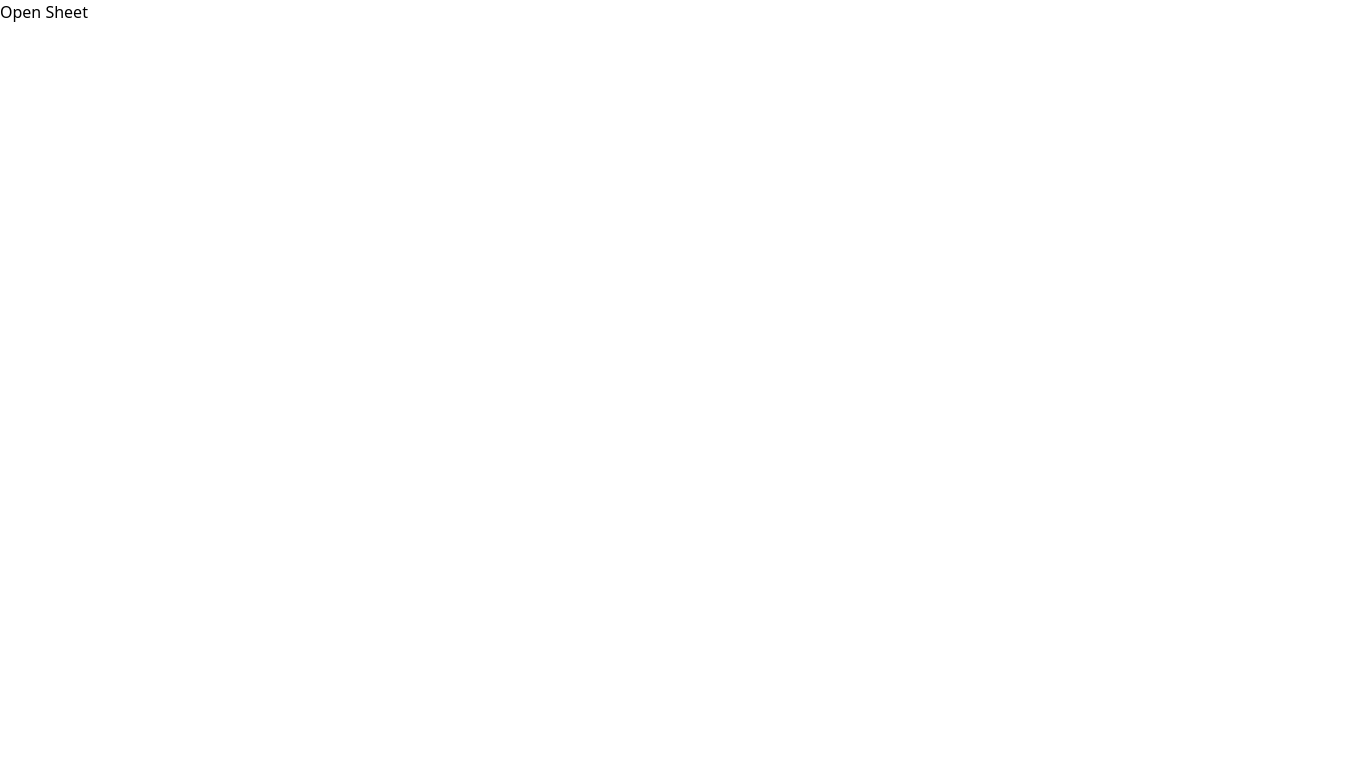
Test: Sheet › should open sheet when trigger is clicked
This screenshot has width=1366, height=768.
Click the button "Open Sheet" at x=44, y=12, box [0,0,88,24]
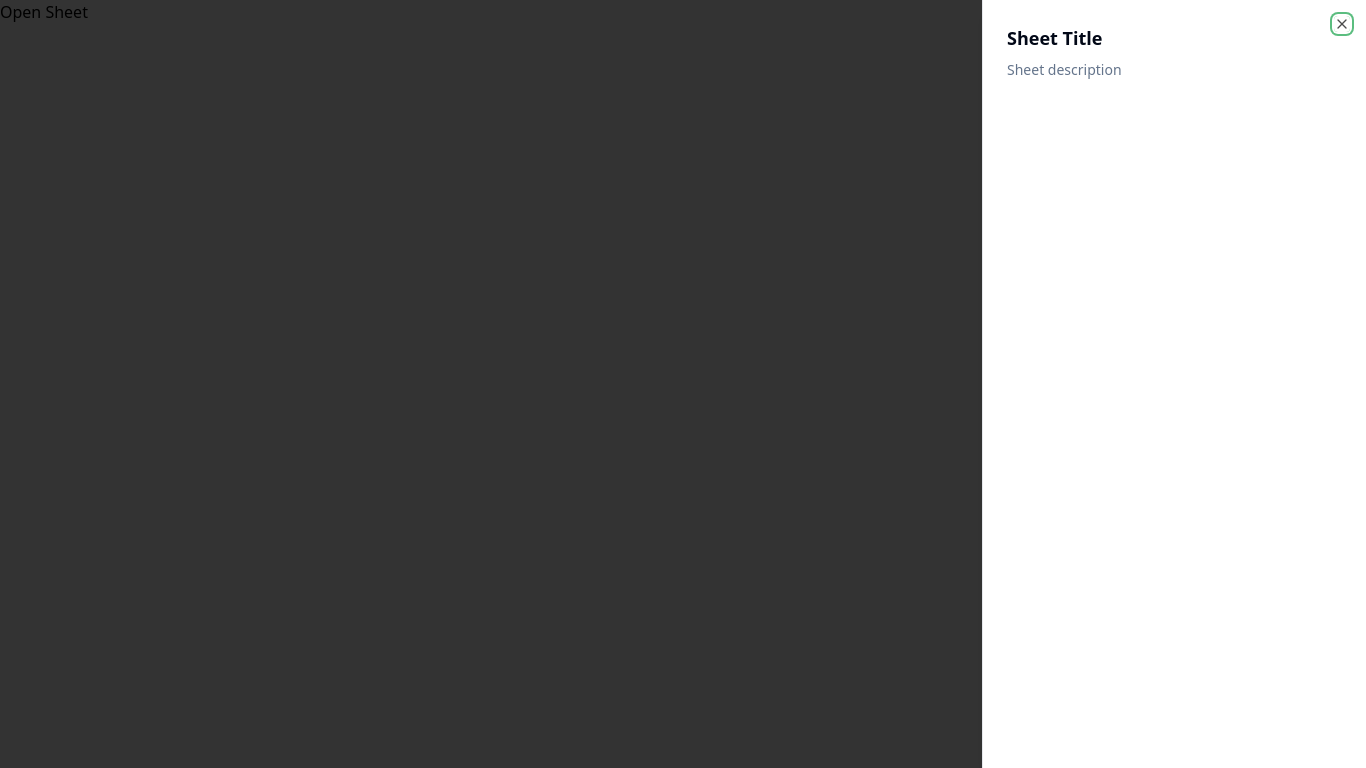
Check: the heading "Sheet Title" is shown, box [1007,26,1102,50]
Check: the text "Sheet description" is shown, box [1007,60,1122,79]
